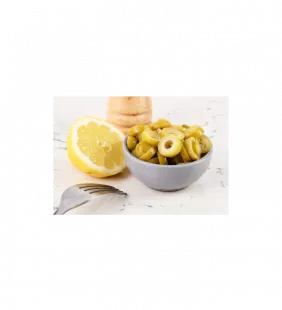SDS: (43, 91, 237, 221)
